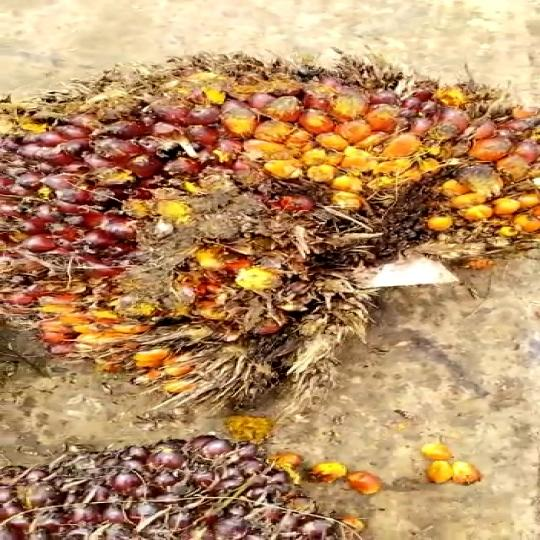masak: (0, 53, 540, 423)
